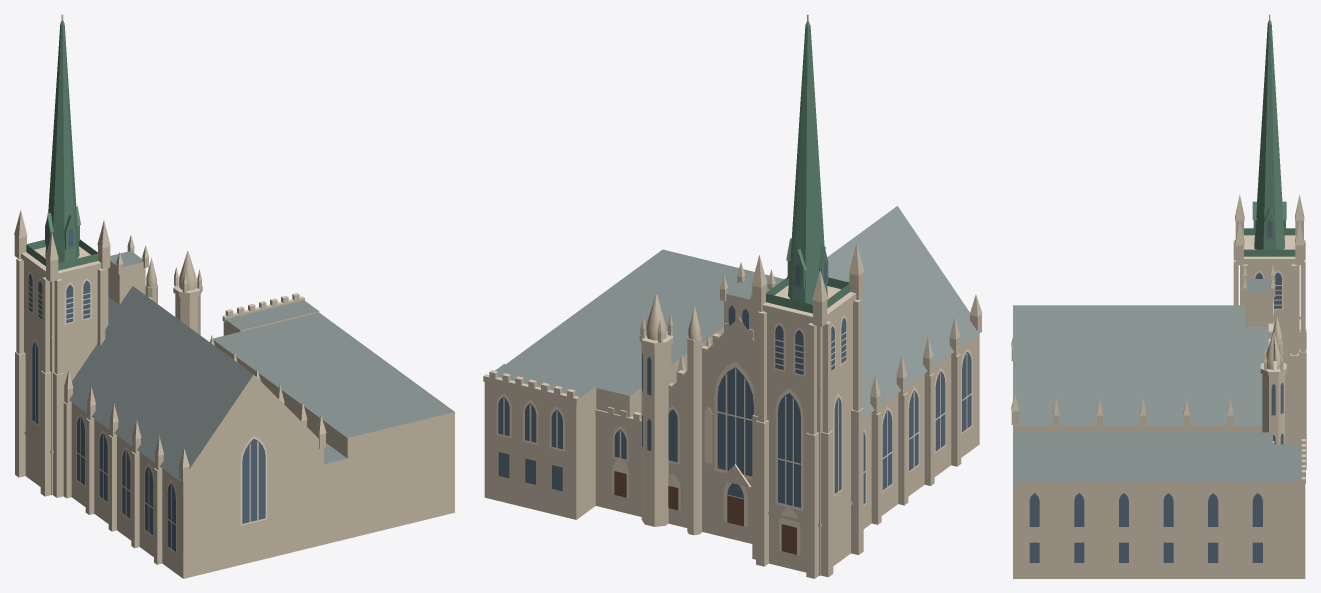
File: det-fort-street-presbyterian.glb
3 renders of one model, left to right at view 1: azimuth 30°, elevation 25°; view 2: azimuth 150°, elevation 25°; view 3: azimuth 270°, elevation 25°, orthographic. The views are drawn at different scales.
Visible parts, largest first — view 1: Fort Street Presbyterian Church; view 2: Fort Street Presbyterian Church; view 3: Fort Street Presbyterian Church.
Part boxes in pixels (x1,y1,x2,y2): Fort Street Presbyterian Church: [14, 14, 454, 578]; Fort Street Presbyterian Church: [483, 14, 982, 578]; Fort Street Presbyterian Church: [1011, 14, 1306, 578].
Bounding box in the file's own units: 44.8 × 68 × 41.05.
